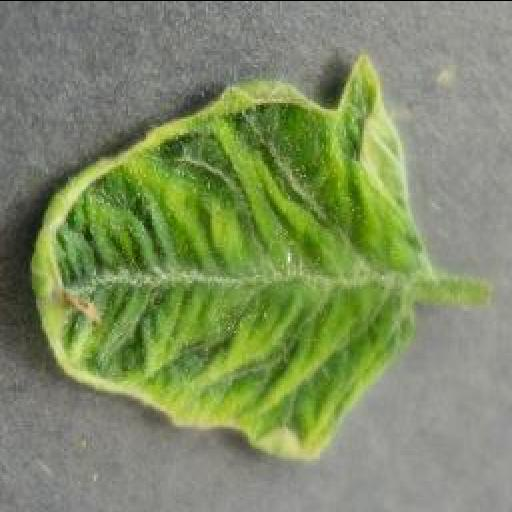disease_tomato: (31, 50, 429, 464)
